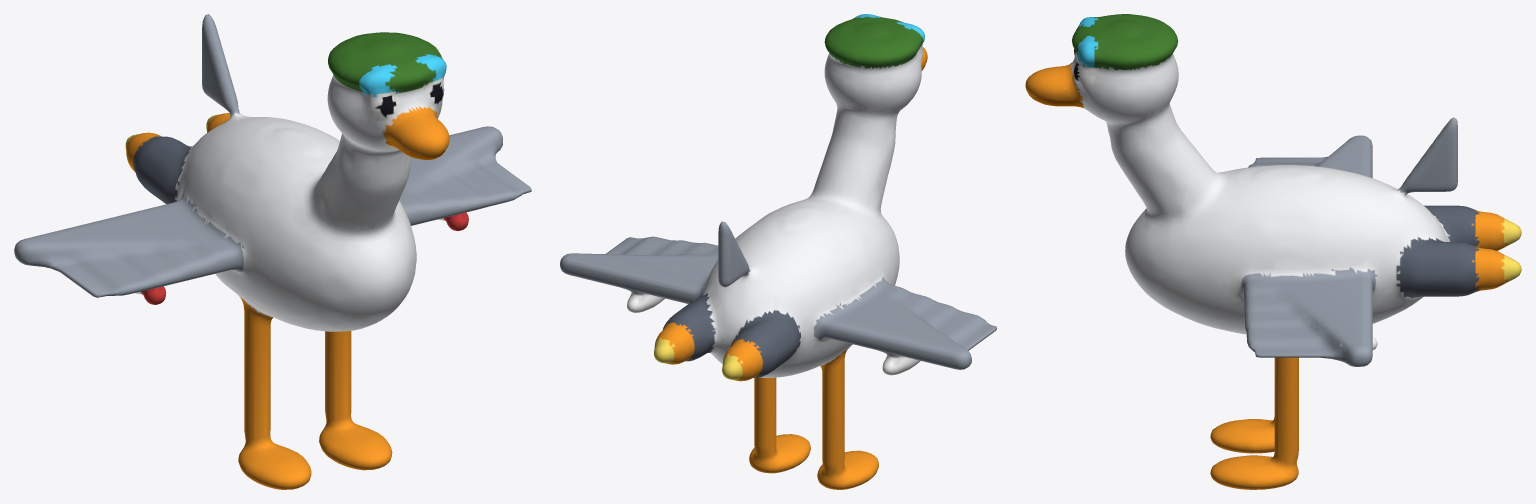
Rendered from SM_Bombombini_Gusini.fbx.
3 renders of one model, left to right at view 1: azimuth 30°, elevation 25°; view 2: azimuth 150°, elevation 25°; view 3: azimuth 270°, elevation 25°, orthographic. The views are drawn at different scales.
Visible parts, largest first — view 1: Bombombini_Gusini; view 2: Bombombini_Gusini; view 3: Bombombini_Gusini.
Boxes of the visible parts, <box> form: Bombombini_Gusini: <box>14,14,531,489</box>; Bombombini_Gusini: <box>560,14,996,489</box>; Bombombini_Gusini: <box>1025,14,1521,489</box>.
Bounding box in the file's own units: 1.44 × 1.35 × 1.38.
Materials: 1 (1 with a texture image).
